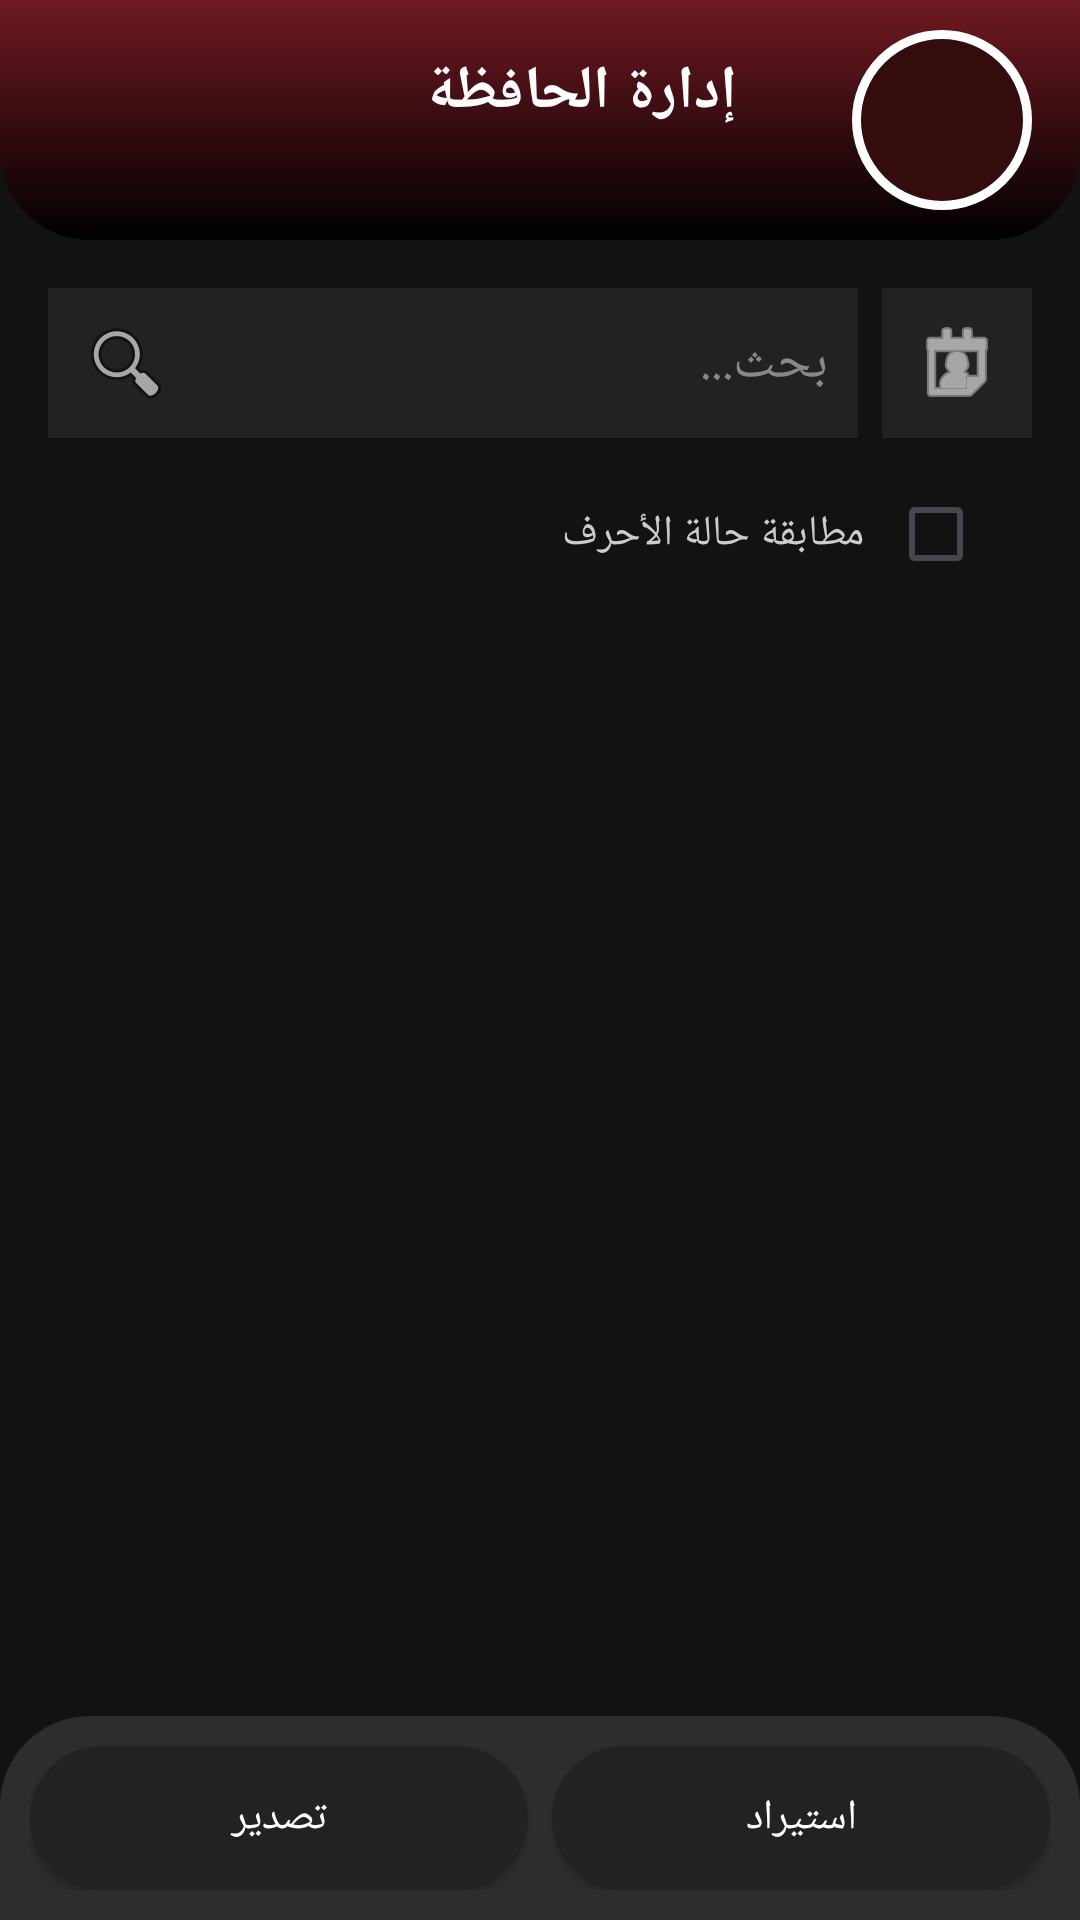

Locate icon controls on the screen. Image size 1080w x 1920h, boxes as (x1, y1, x2, y2).
فلترة بالتاريخ: (926, 327, 988, 397)
